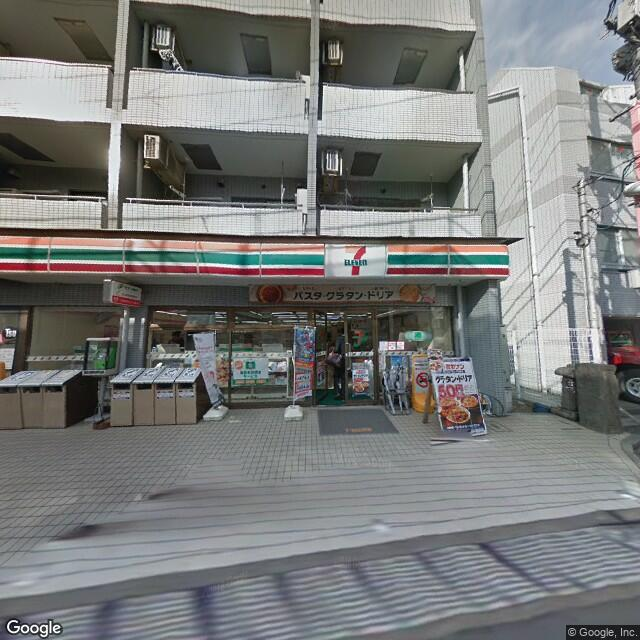7-eleven: (1, 227, 513, 283)
